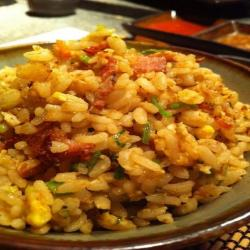rice: (23, 67, 206, 204)
